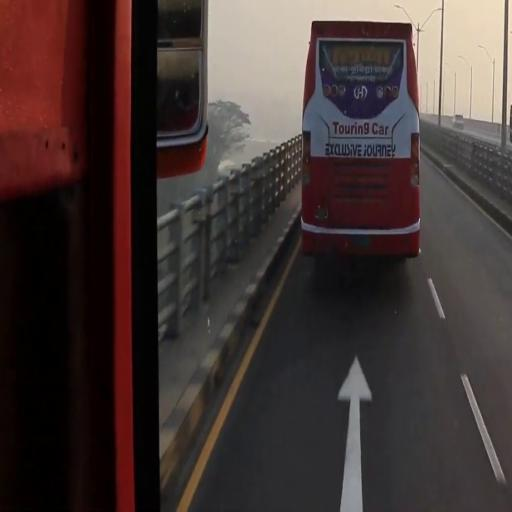bus: (302, 20, 422, 263)
van: (453, 114, 466, 130)
